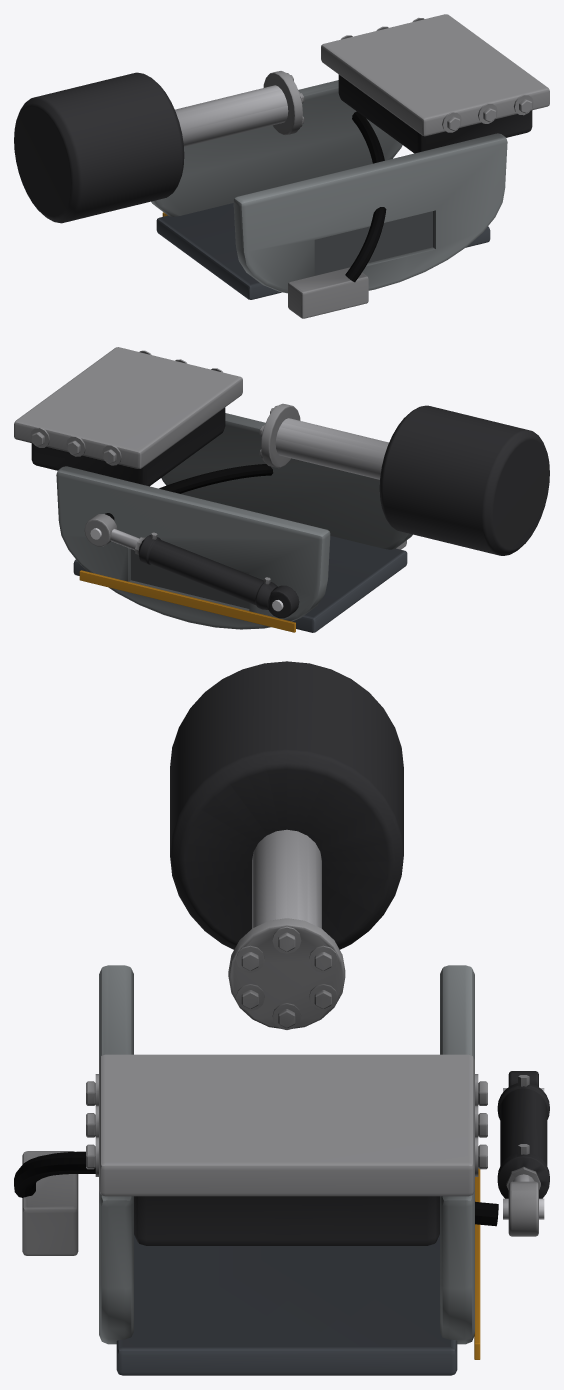
File: bastion.fold_knee_right.glb
3 renders of one model, top to bottom at view 1: azimuth 30°, elevation 25°; view 2: azimuth 150°, elevation 25°; view 3: azimuth 270°, elevation 25°, orthographic. The views are drawn at different scales.
Bounding box in the file's own units: 1.53 × 0.7 × 0.8587.
